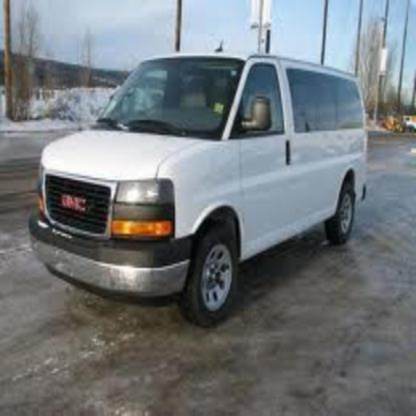Vehicle: (32, 52, 373, 335)
